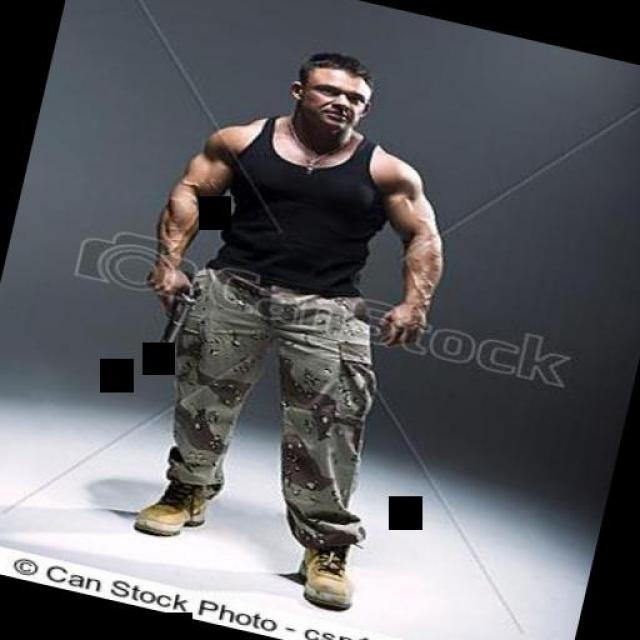gun: (135, 276, 203, 354)
